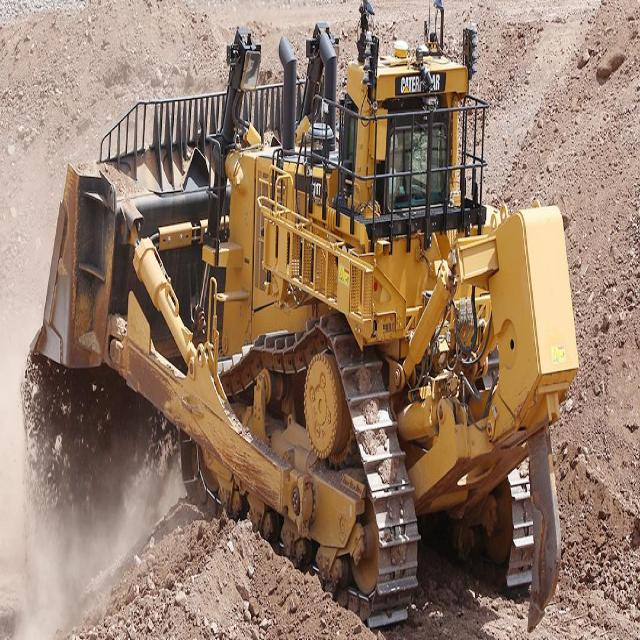Bulldozer: (25, 21, 579, 626)
